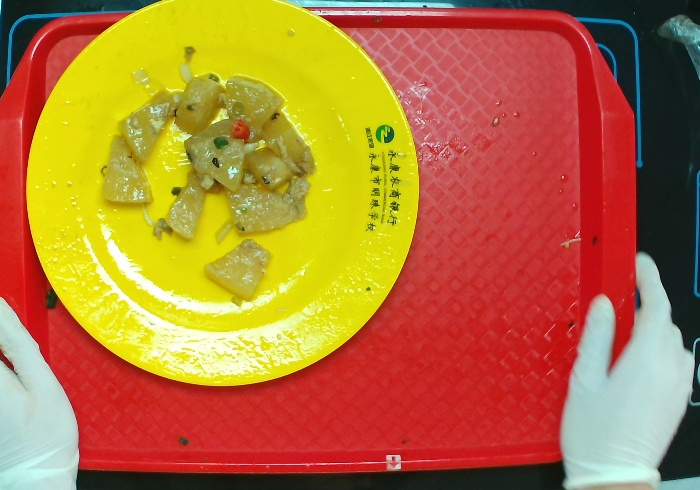YKMZ-Huang_Se_Mian_Pan: (19, 1, 429, 392)
